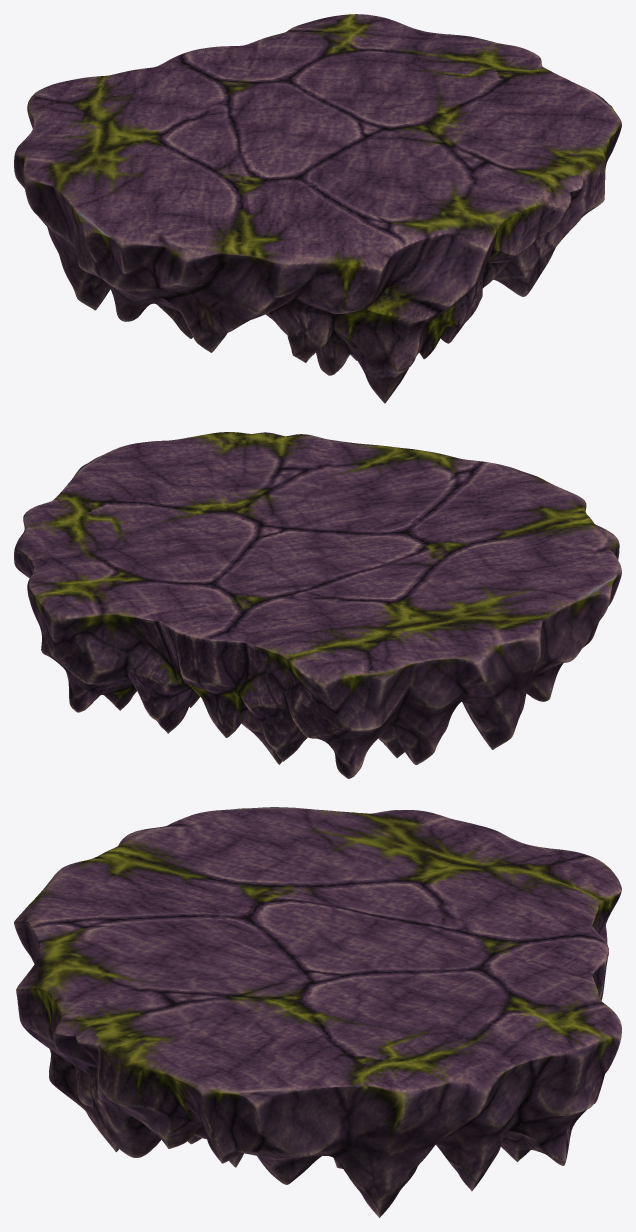
The model's file is ilhaflutuante.glb.
3 renders of one model, top to bottom at view 1: azimuth 30°, elevation 25°; view 2: azimuth 150°, elevation 25°; view 3: azimuth 270°, elevation 25°, orthographic. The views are drawn at different scales.
Size of the model in its own units: 1.9 by 0.6756 by 1.67.
1 material, 1 textured.
